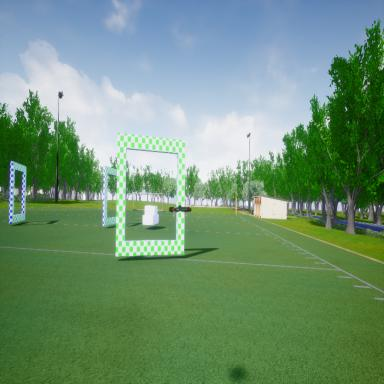gate: (114, 125, 188, 263), (8, 155, 28, 226)
